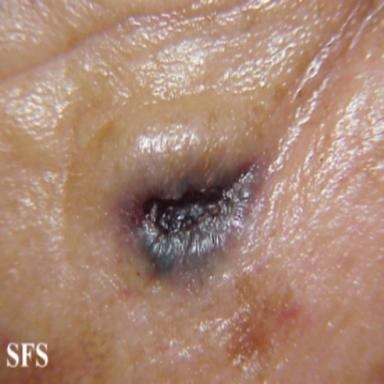basal-cell-carcinoma: (121, 140, 265, 282)
